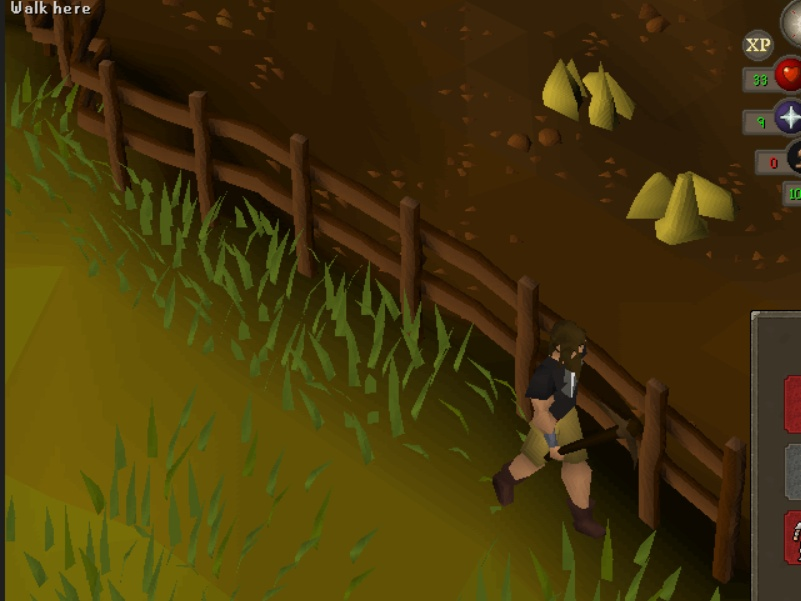gold: (626, 161, 745, 255), (538, 48, 645, 136)
